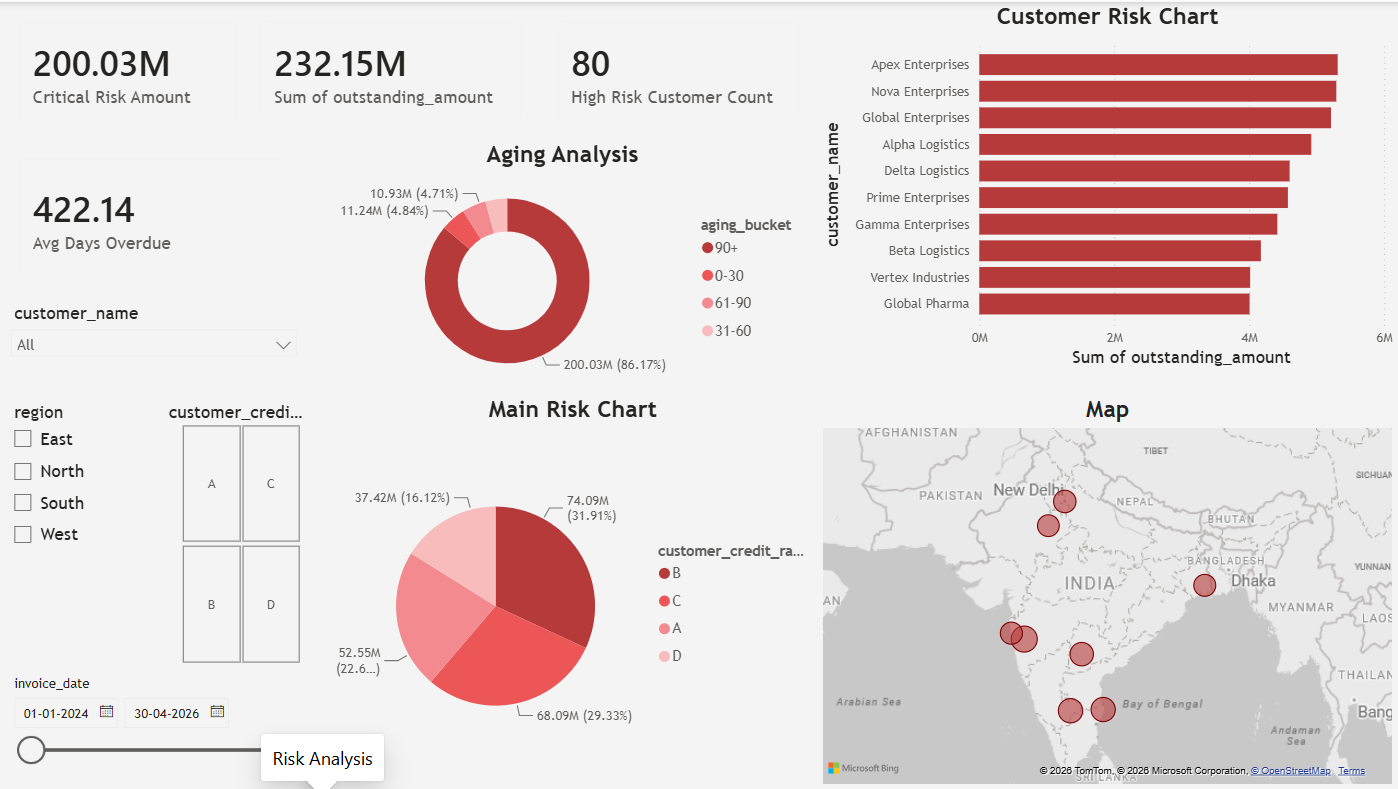

This screenshot's page, from the dashboard's own definition file:
{"tool":"powerbi","page":{"name":"Risk Analysis","canvas":[1280,720],"ordinal":1},"visuals":[{"type":"pieChart","title":"Main Risk Chart","fields":{"Category":["customers.customer_credit_rating"],"Y":["Sum(invoices.outstanding_amount)"]},"box":[298.6,359.1,449.8,360.9],"z":0},{"type":"barChart","title":"Customer Risk Chart","fields":{"Category":["customers.customer_name"],"Y":["Sum(invoices.outstanding_amount)"]},"box":[748.4,0,531,338.3],"z":1000},{"type":"slicer","fields":{"Values":["customers.region"]},"box":[0,359.1,149.3,251.3],"z":2000},{"type":"slicer","fields":{"Values":["customers.customer_name"]},"box":[0,268.3,281.6,90.7],"z":3000},{"type":"slicer","fields":{"Values":["customers.customer_credit_rating"]},"box":[141.7,359.1,156.9,251.3],"z":4000},{"type":"slicer","fields":{"Values":["invoices.invoice_date"]},"box":[0,610.4,298.6,109.6],"z":5000},{"type":"cardVisual","fields":{"Data":["invoices.Critical Risk Amount"]},"box":[0,0,234.3,126.6],"z":6000},{"type":"cardVisual","fields":{"Data":["invoices.Avg Days Overdue"]},"box":[0,126.6,281.6,141.7],"z":7000},{"type":"cardVisual","fields":{"Data":["invoices.High Risk Customer Count"]},"box":[493.2,0,255.1,126.6],"z":8000},{"type":"cardVisual","fields":{"Data":["Sum(invoices.outstanding_amount)"]},"box":[221.1,0,272.1,126.6],"z":9000},{"type":"donutChart","title":"Aging Analysis","fields":{"Category":["invoices.aging_bucket"],"Y":["Sum(invoices.outstanding_amount)"]},"box":[281.6,126.6,466.8,232.4],"z":10000},{"type":"map","title":"Map","fields":{"Category":["customers.Location"],"Size":["Sum(invoices.outstanding_amount)"]},"box":[748.4,359.1,531,360.9],"z":11000}]}

Visuals, with their boxes in screenshot pixels (x1, y1, x2, y2), scaled from the page's 1280x720 canvas onto the 1398x789 screenshot:
"Main Risk Chart" pieChart: (326, 394, 817, 788)
"Customer Risk Chart" barChart: (817, 0, 1397, 371)
slicer - customers.region: (0, 394, 163, 669)
slicer - customers.customer_name: (0, 294, 308, 393)
slicer - customers.customer_credit_rating: (155, 394, 326, 669)
slicer - invoices.invoice_date: (0, 669, 326, 788)
cardVisual - invoices.Critical Risk Amount: (0, 0, 256, 139)
cardVisual - invoices.Avg Days Overdue: (0, 139, 308, 294)
cardVisual - invoices.High Risk Customer Count: (539, 0, 817, 139)
cardVisual - Sum(invoices.outstanding_amount): (241, 0, 539, 139)
"Aging Analysis" donutChart: (308, 139, 817, 393)
"Map" map: (817, 394, 1397, 788)
